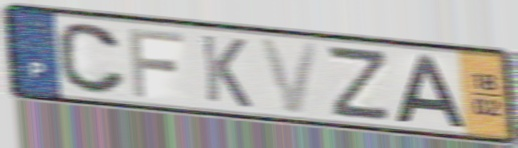A: (392, 51, 469, 129)
C: (54, 21, 130, 97)
F: (125, 25, 187, 101)
K: (197, 31, 255, 111)
V: (255, 35, 323, 116)
Z: (327, 45, 393, 124)
